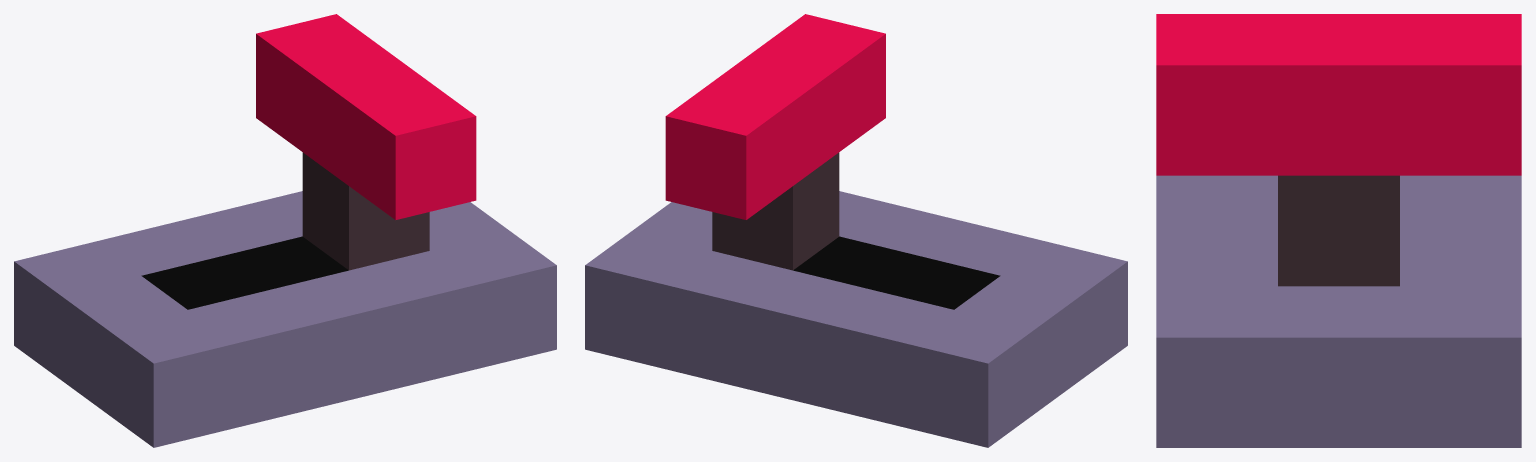
Rendered from lever_a_a_red_on.obj.
The picture shows the model from 3 angles, left to right: view 1: azimuth 30°, elevation 25°; view 2: azimuth 150°, elevation 25°; view 3: azimuth 270°, elevation 25°; orthographic projection. The views are drawn at different scales.
Bounding box in the file's own units: 0.5 × 0.3 × 0.3.
1 material, 1 textured.
